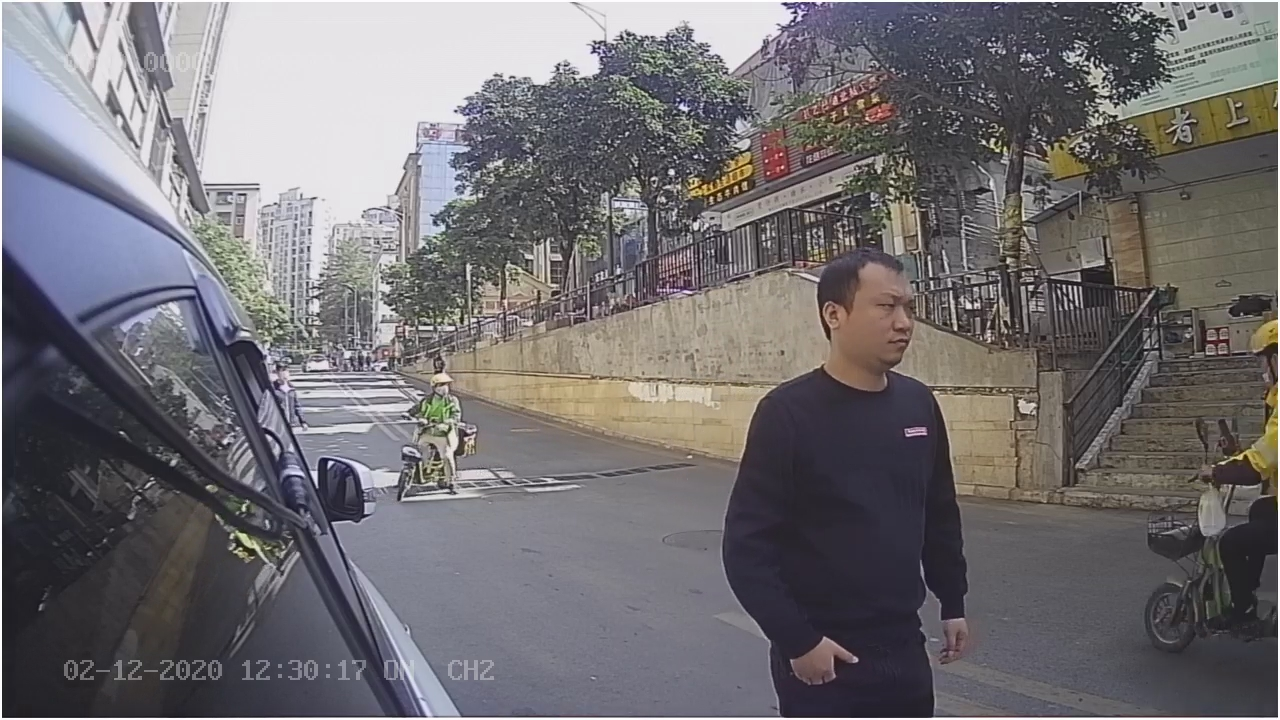person: (725, 244, 997, 688)
